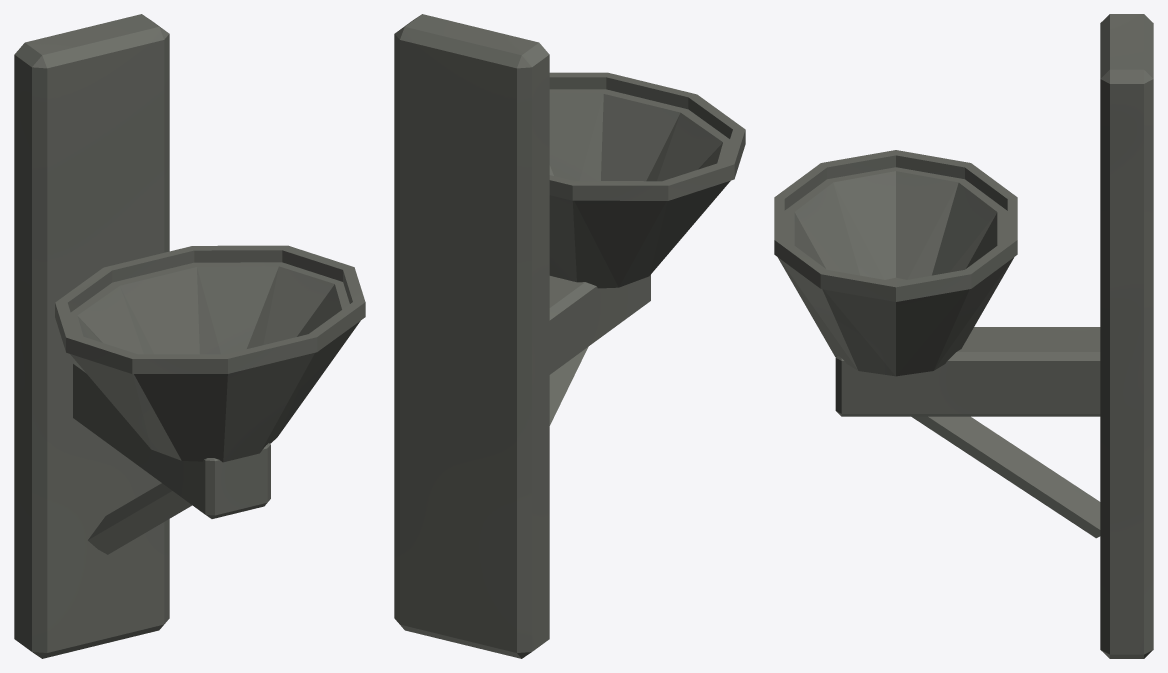
The model's file is WarrensC_CCS63_SconceFixture_Mars_SM.fbx.
The picture shows the model from 3 angles, left to right: view 1: azimuth 30°, elevation 25°; view 2: azimuth 150°, elevation 25°; view 3: azimuth 270°, elevation 25°; orthographic projection. The views are drawn at different scales.
Parts seen in each view (by area): view 1: WarrensC_CCS63_SconceFixture_Mars_SM.001; view 2: WarrensC_CCS63_SconceFixture_Mars_SM.001; view 3: WarrensC_CCS63_SconceFixture_Mars_SM.001.
Part boxes in pixels (box(x1,y1,x2,y2)): WarrensC_CCS63_SconceFixture_Mars_SM.001: box(14, 14, 365, 658); WarrensC_CCS63_SconceFixture_Mars_SM.001: box(394, 14, 745, 658); WarrensC_CCS63_SconceFixture_Mars_SM.001: box(774, 14, 1153, 658).
Bounding box in the file's own units: 30 × 35 × 60.
